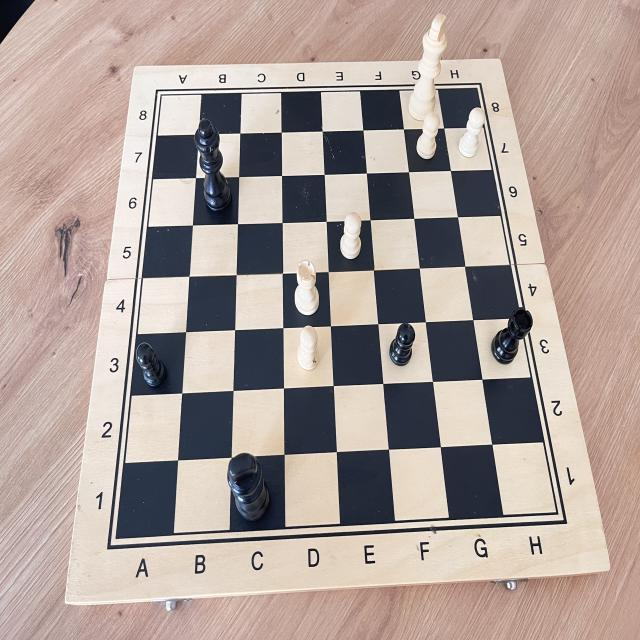black-king: (218, 438, 279, 532)
black-pawn: (132, 335, 176, 391), (384, 316, 420, 373)
black-queen: (189, 112, 240, 224)
black-rook: (484, 296, 536, 375)
white-king: (402, 5, 454, 132)
white-pawn: (455, 100, 487, 162), (414, 107, 445, 169), (293, 317, 323, 376), (337, 209, 367, 266)
white-rook: (290, 254, 322, 322)
